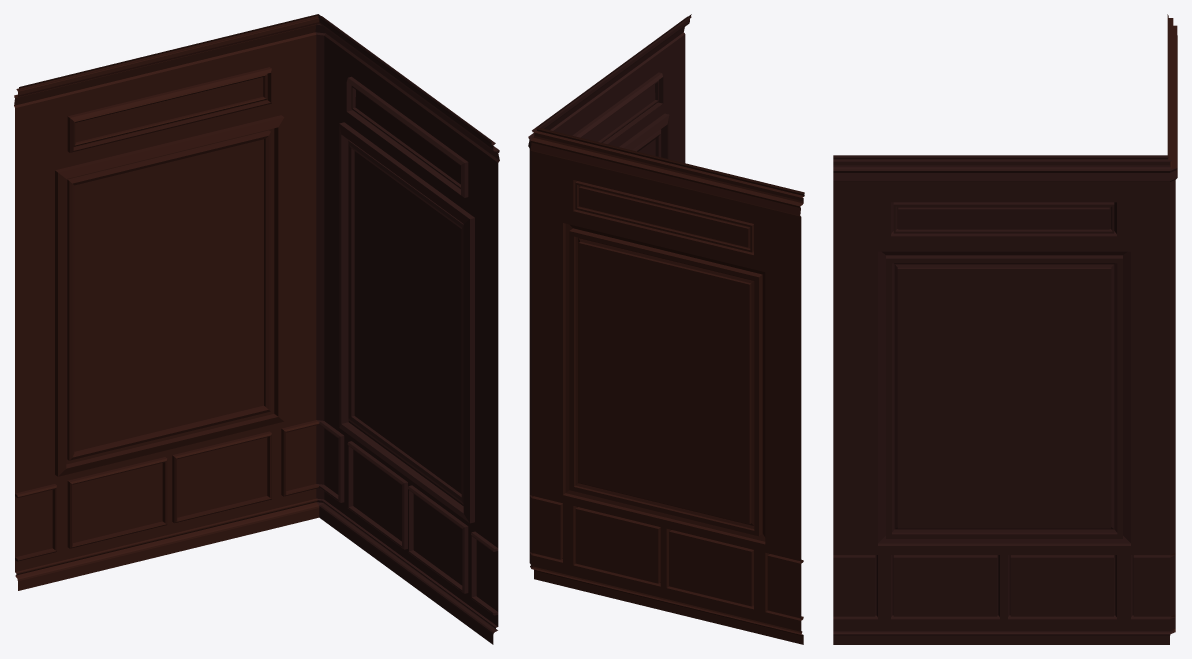
Rendered from corner_big.fbx.
3 renders of one model, left to right at view 1: azimuth 30°, elevation 25°; view 2: azimuth 150°, elevation 25°; view 3: azimuth 270°, elevation 25°, orthographic. The views are drawn at different scales.
Visible parts, largest first — view 1: big_corner; view 2: big_corner; view 3: big_corner.
Part boxes in pixels (box(x1,y1,x2,y2)): big_corner: box(14, 14, 499, 644); big_corner: box(528, 14, 804, 644); big_corner: box(833, 14, 1177, 644).
Bounding box in the file's own units: 201 × 315 × 201.
